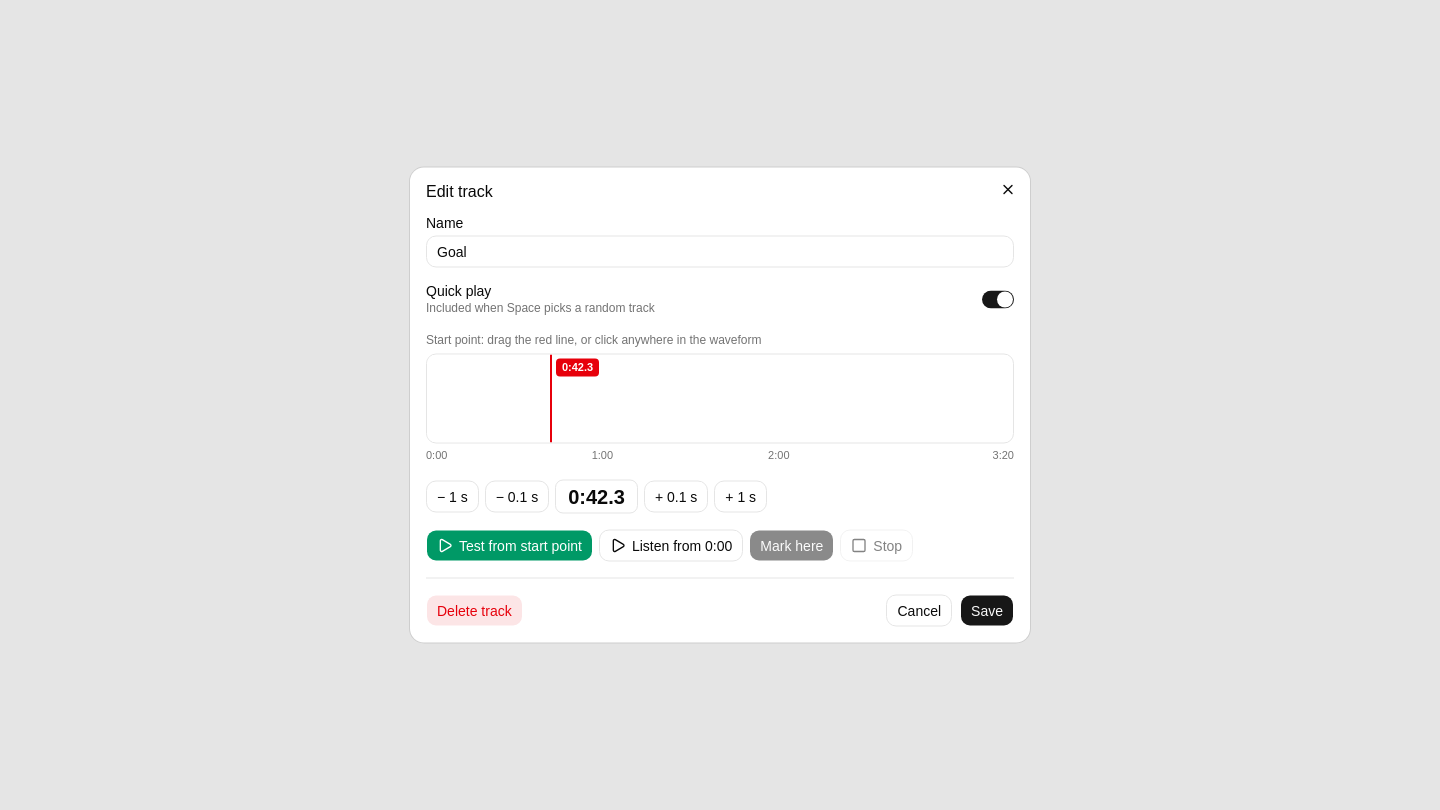
Test: nudges snap and clamp
Click the button "+ 0.1 s" at (676, 496), box [644,480,708,512]
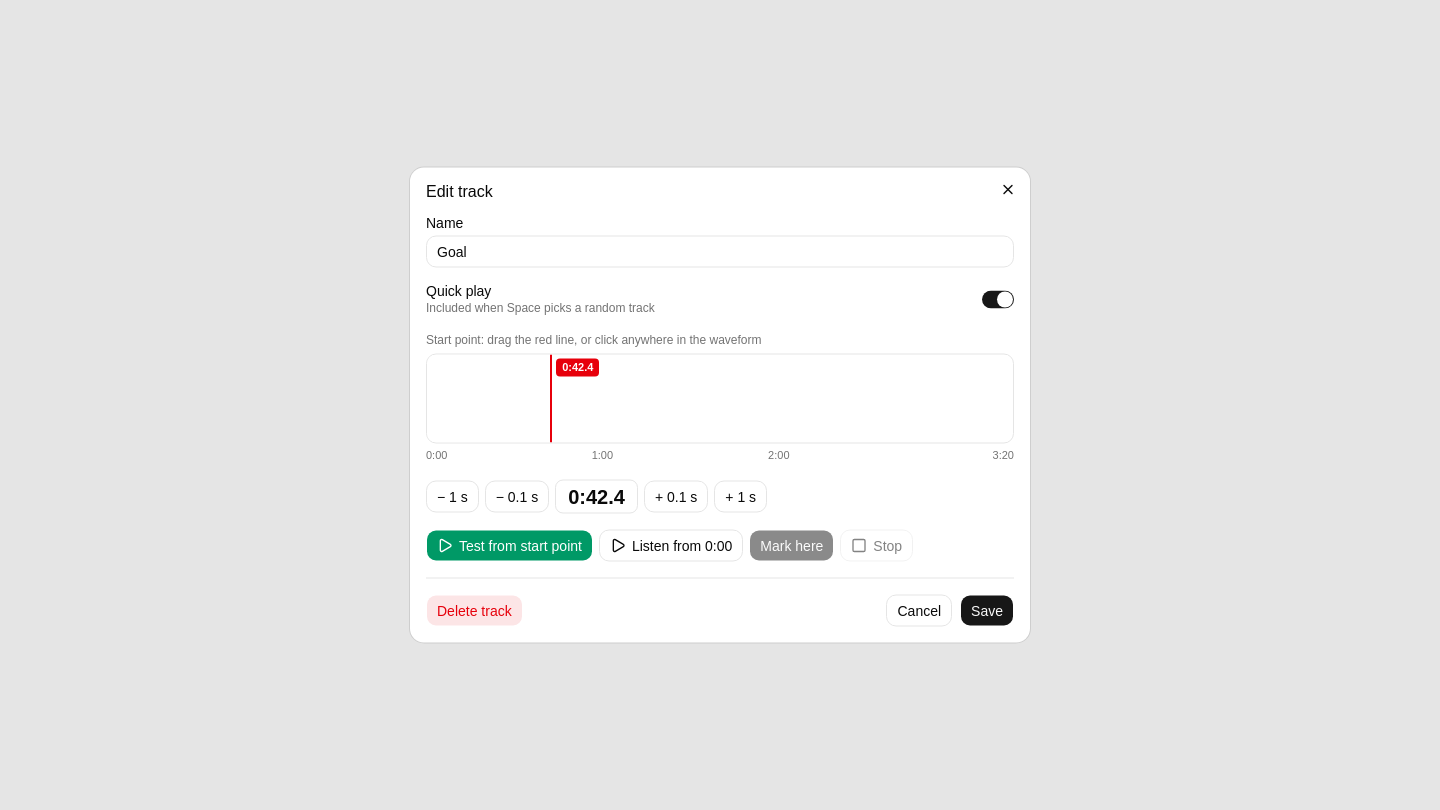
Result: the text named "Start point" reads "0:42.4" at [568,486,625,508]
Click the button "− 0.1 s" at (517, 496), box [485,480,549,512]
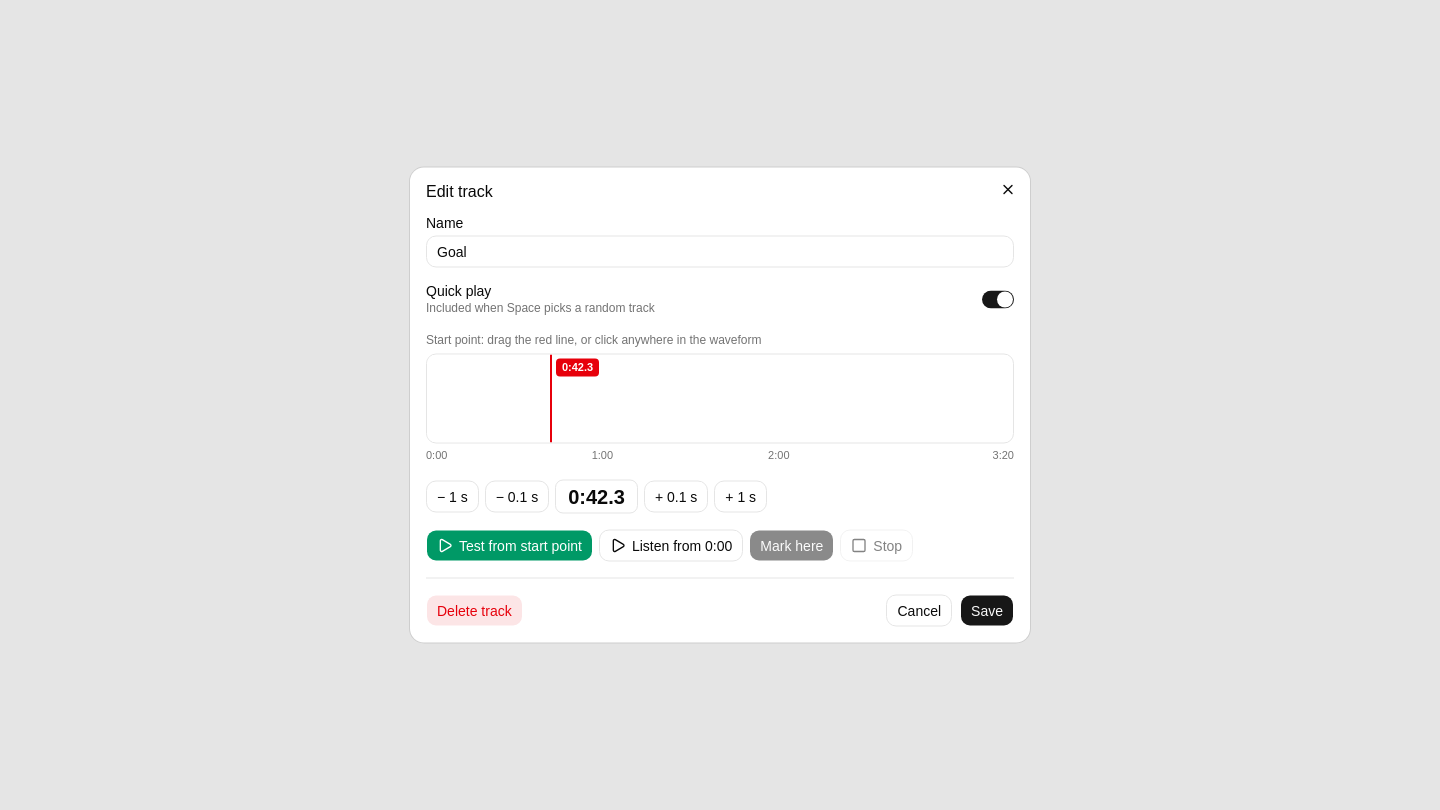
Click the button "− 0.1 s" at (517, 496), box [485,480,549,512]
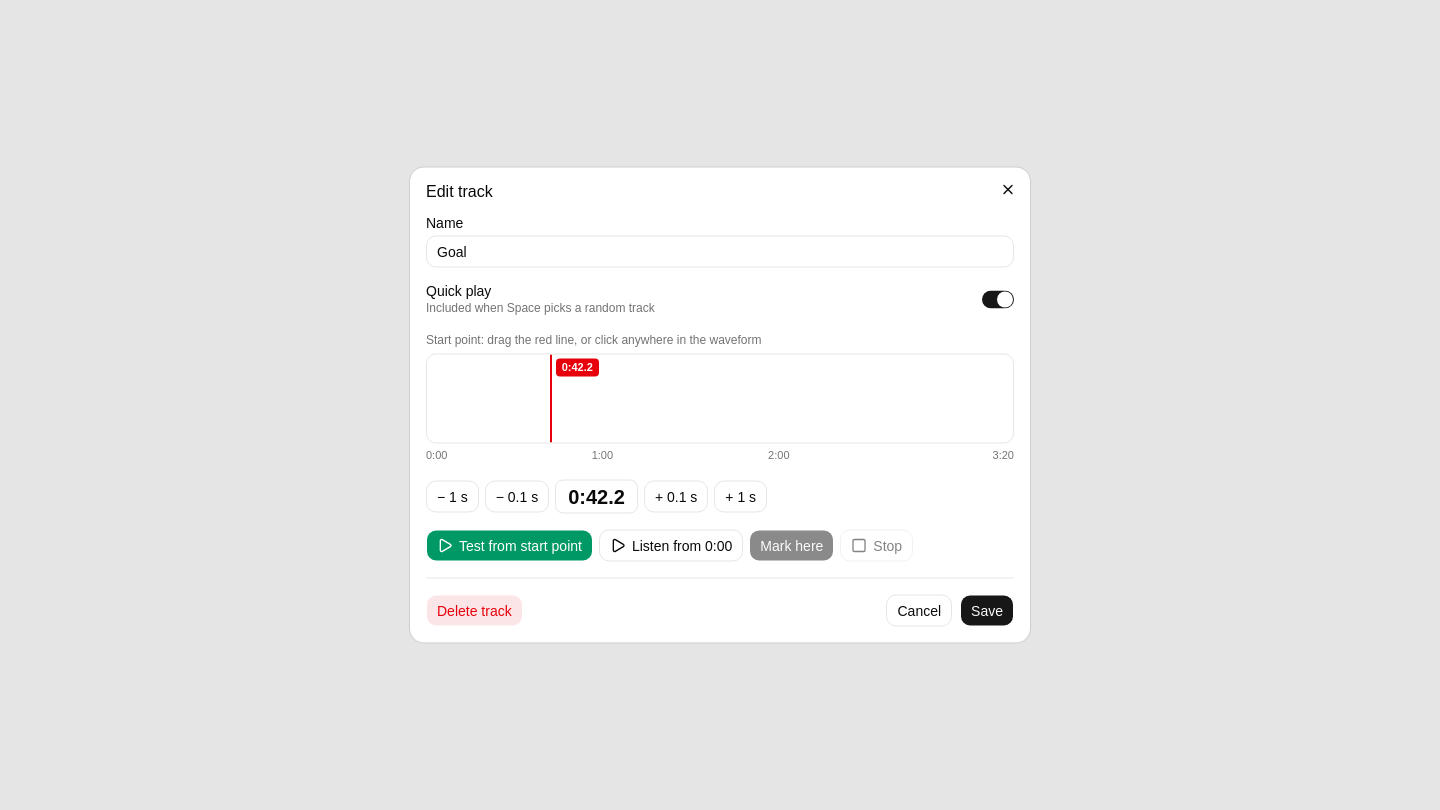
Result: the text named "Start point" reads "0:42.2" at [568,486,625,508]
Click the button "+ 1 s" at (741, 496), box [714,480,767,512]
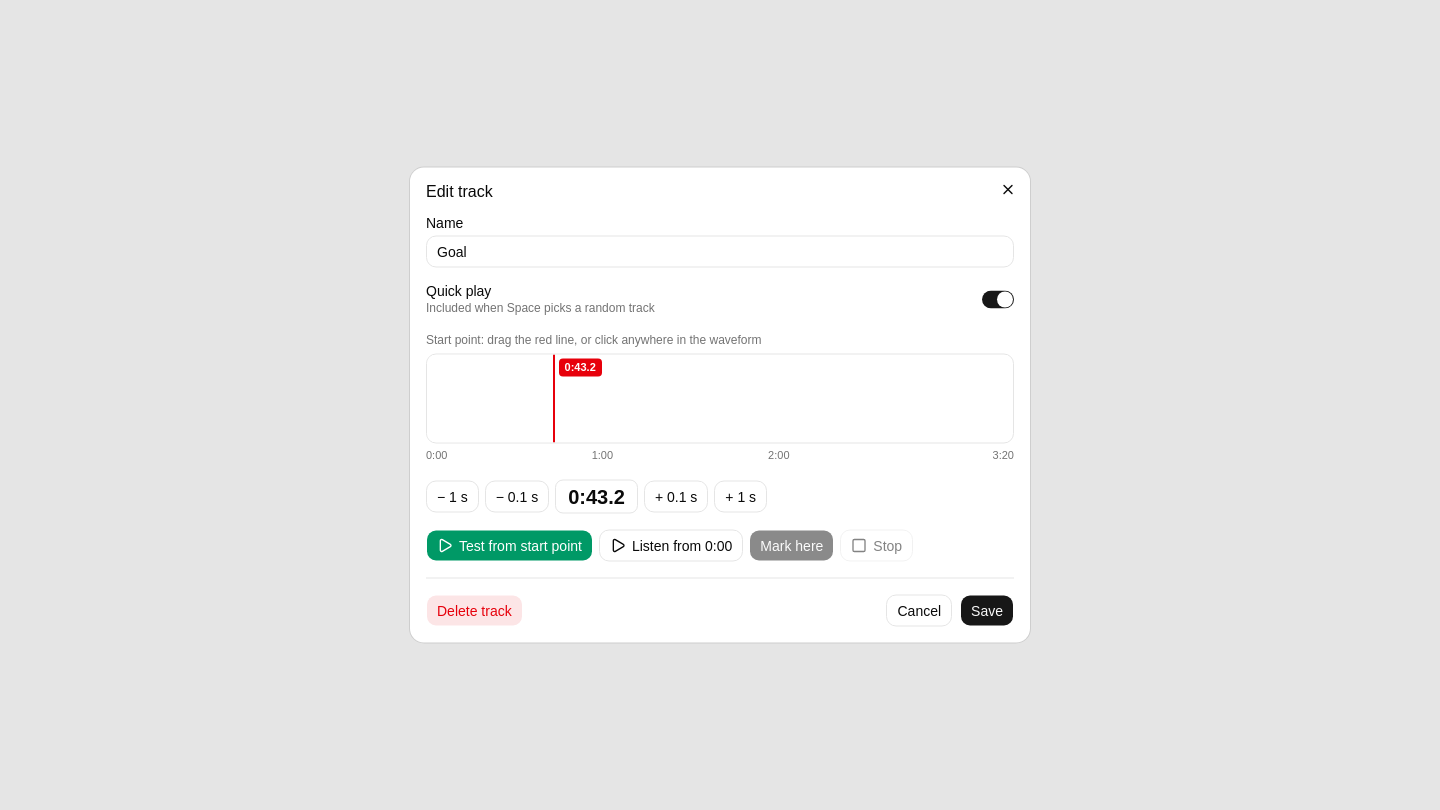
Result: the text named "Start point" reads "0:43.2" at [568,486,625,508]
Click the button "− 1 s" at (452, 496), box [426,480,479,512]
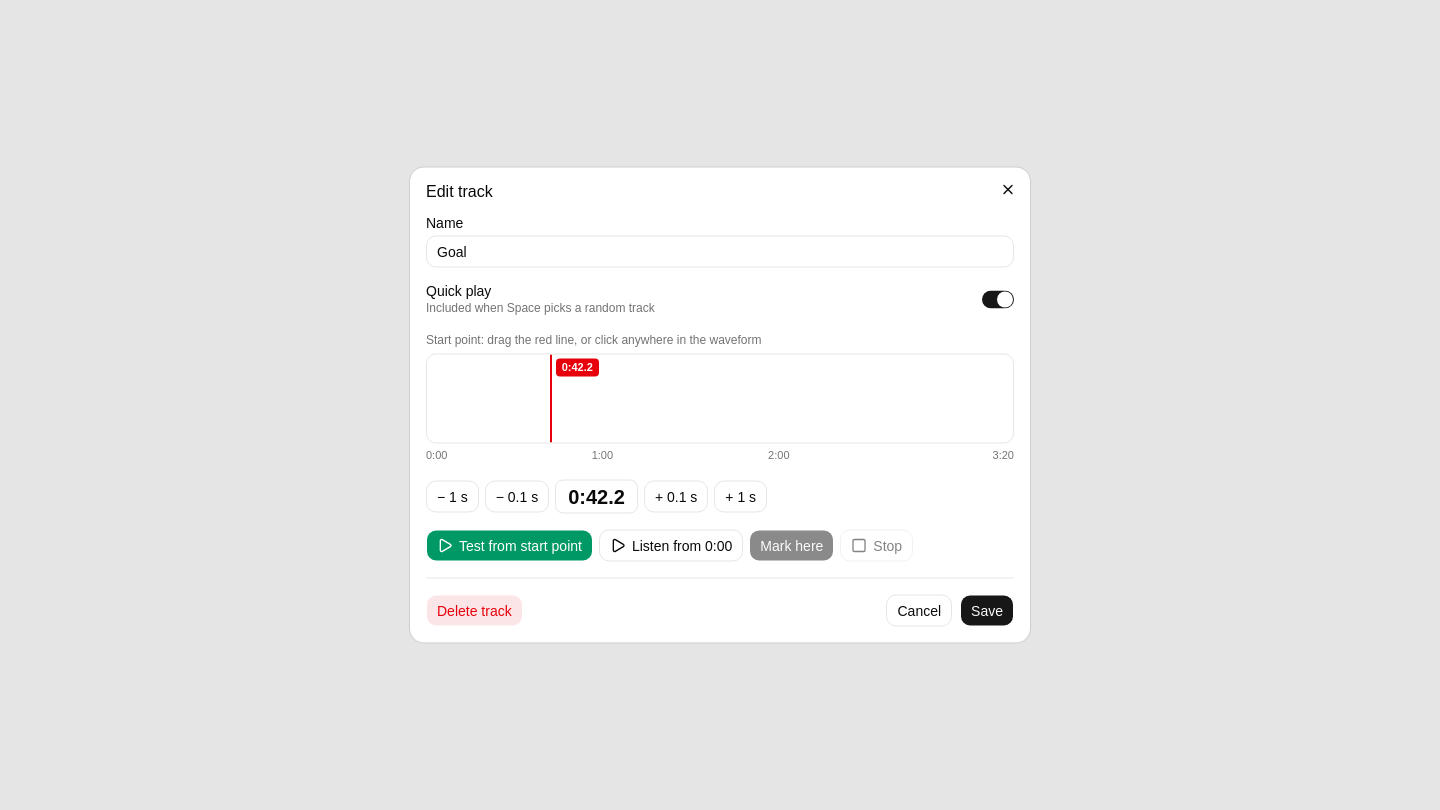
Result: the text named "Start point" reads "0:42.2" at [568,486,625,508]
